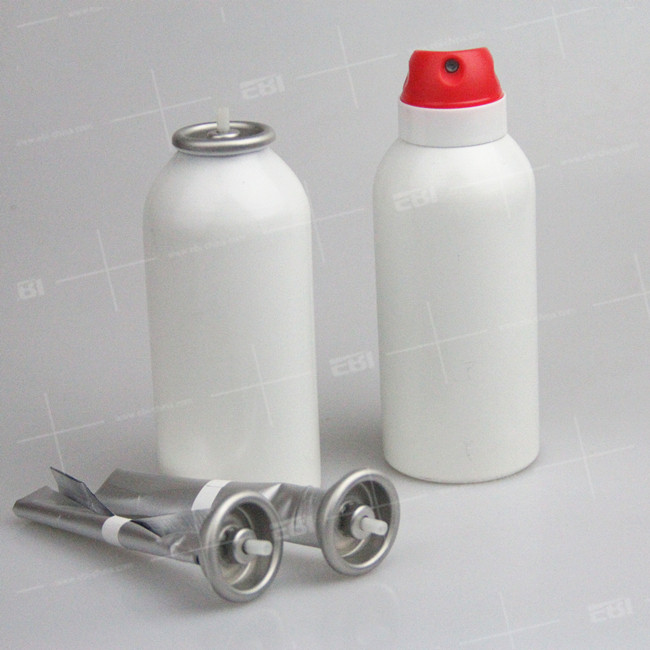Aerosol_cans: (362, 44, 546, 490), (138, 99, 328, 498)
